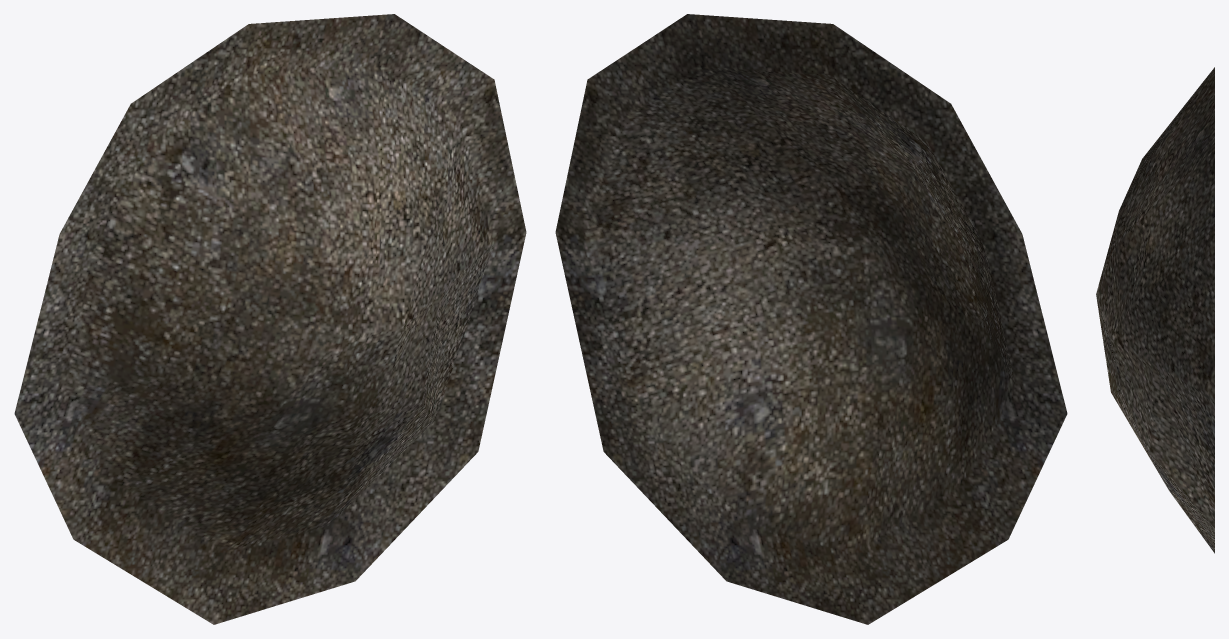
Rendered from hd_env008_SandHeap2.glb.
3 renders of one model, left to right at view 1: azimuth 30°, elevation 25°; view 2: azimuth 150°, elevation 25°; view 3: azimuth 270°, elevation 25°, orthographic. The views are drawn at different scales.
Visible parts, largest first — view 1: set_0_group_0; view 2: set_0_group_0; view 3: set_0_group_0.
Boxes of the visible parts, <box> form: set_0_group_0: <box>14,14,526,624</box>; set_0_group_0: <box>555,14,1067,624</box>; set_0_group_0: <box>1096,67,1214,553</box>.
Size of the model in its own units: 2.69 by 2.98 by 0.5682.
Materials: 1 (1 with a texture image).
